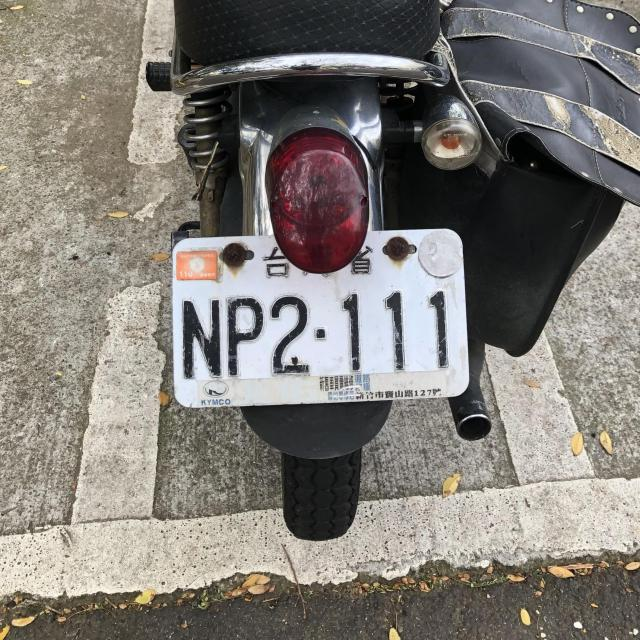W: (166, 239, 475, 390)
